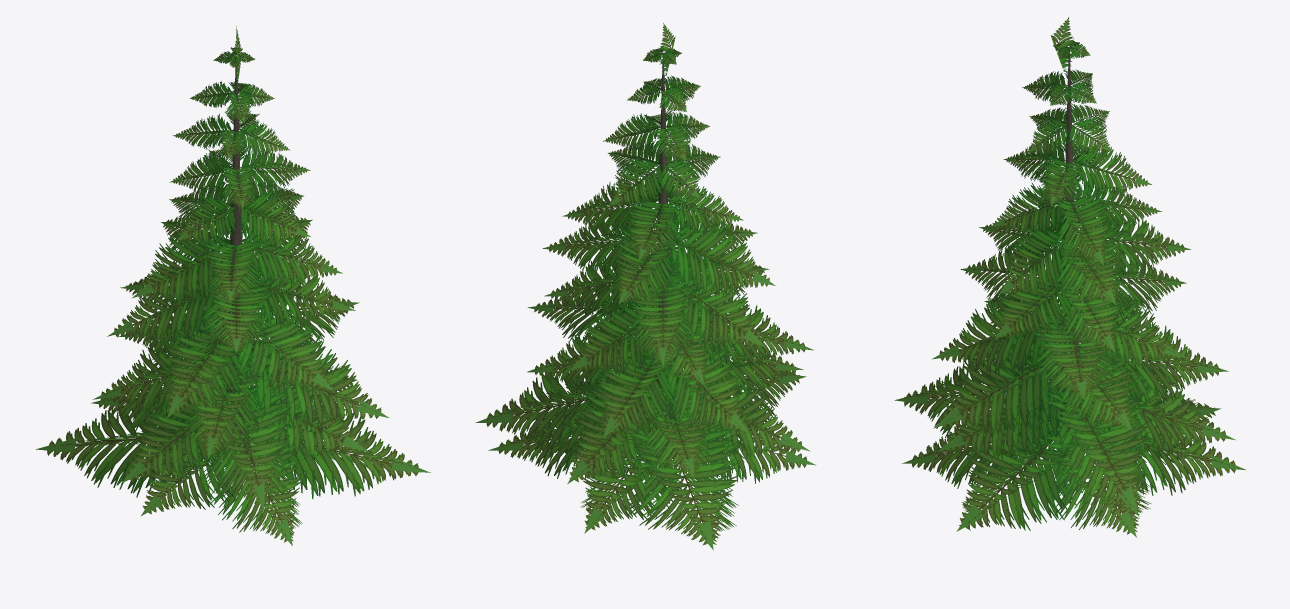
Rendered from fir_lod1.glb.
3 renders of one model, left to right at view 1: azimuth 30°, elevation 25°; view 2: azimuth 150°, elevation 25°; view 3: azimuth 270°, elevation 25°, orthographic. The views are drawn at different scales.
Visible parts, largest first — view 1: fir; view 2: fir; view 3: fir.
Boxes of the visible parts, x1,y1,x2,y2 form: fir: (36, 26, 430, 545); fir: (475, 23, 815, 550); fir: (894, 17, 1245, 537).
Bounding box in the file's own units: 15.68 × 21.27 × 15.49.
2 materials, 2 textured.
